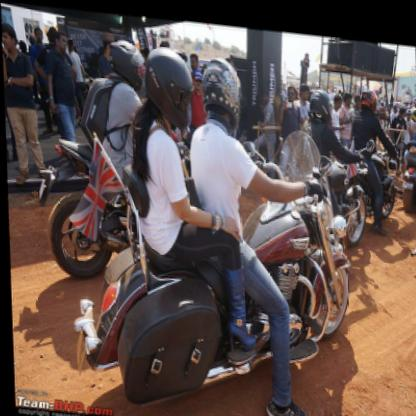With Helmet: (200, 51, 244, 128), (308, 82, 332, 117)
